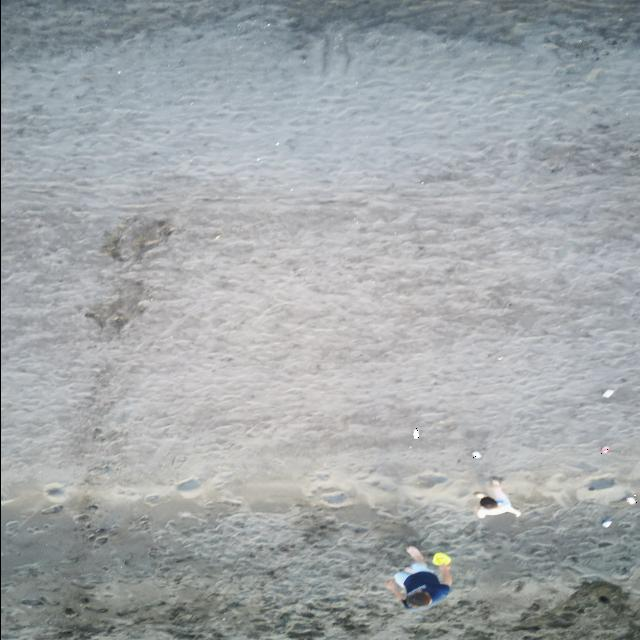Garbage: (600, 517, 612, 527), (602, 388, 613, 397), (625, 495, 635, 503), (472, 451, 480, 459), (600, 446, 609, 453), (412, 427, 418, 437)
